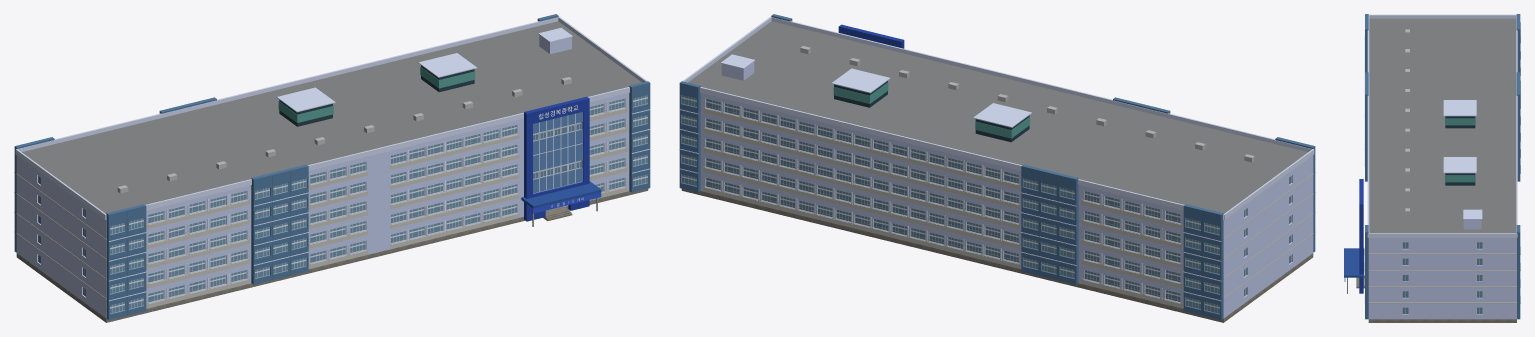
The picture shows the model from 3 angles, left to right: view 1: azimuth 30°, elevation 25°; view 2: azimuth 150°, elevation 25°; view 3: azimuth 270°, elevation 25°; orthographic projection. The views are drawn at different scales.
Visible parts, largest first — view 1: main__roof, main__white, main__glass, main__cap, main__frame, main__darkpanel, main__band, main__navy, main__curtainglass, main__stone, main__steel, main__tealglass (+4 smaller); view 2: main__roof, main__white, main__sideglass, main__frame, main__band, main__cap, main__darkpanel, main__glass, main__stone, main__steel, main__tealglass, main__unit (+2 smaller); view 3: main__roof, main__white, main__cap, main__darkpanel, main__band, main__stone, main__navy, main__bluecanopy, main__tealglass, main__sideglass, main__panel, main__unit (+1 smaller).
Part boxes in pixels (box(x1,y1,x2,y2)): main__roof: box(22, 21, 641, 213); main__white: box(16, 35, 629, 318); main__glass: box(110, 95, 647, 313); main__cap: box(14, 16, 650, 304); main__frame: box(38, 95, 648, 313); main__darkpanel: box(14, 14, 650, 319); main__band: box(16, 107, 627, 308); main__navy: box(524, 96, 589, 221); main__curtainglass: box(533, 112, 582, 193); main__stone: box(16, 188, 648, 322); main__steel: box(147, 105, 626, 300); main__tealglass: box(278, 66, 475, 122); main__roof: box(688, 21, 1307, 213); main__white: box(700, 62, 1313, 318); main__sideglass: box(706, 99, 1291, 301); main__frame: box(681, 95, 1291, 313); main__band: box(703, 107, 1313, 307); main__cap: box(679, 16, 1315, 303); main__darkpanel: box(679, 14, 1315, 319); main__glass: box(682, 95, 1219, 313); main__stone: box(681, 188, 1313, 322); main__steel: box(704, 105, 1181, 300); main__tealglass: box(833, 82, 1029, 138); main__unit: box(800, 46, 1254, 162); main__roof: box(1369, 18, 1516, 233); main__white: box(1368, 219, 1516, 319); main__cap: box(1364, 14, 1520, 303); main__darkpanel: box(1365, 14, 1520, 319); main__band: box(1368, 253, 1516, 303); main__stone: box(1368, 319, 1516, 322); main__navy: box(1359, 179, 1363, 293); main__bluecanopy: box(1344, 248, 1364, 277); main__tealglass: box(1445, 116, 1475, 182); main__sideglass: box(1402, 242, 1482, 313); main__panel: box(1445, 116, 1475, 185); main__unit: box(1405, 29, 1409, 214).
Size of the model in its own units: 104 by 21.97 by 35.32.
Materials: 19 (3 with a texture image).
